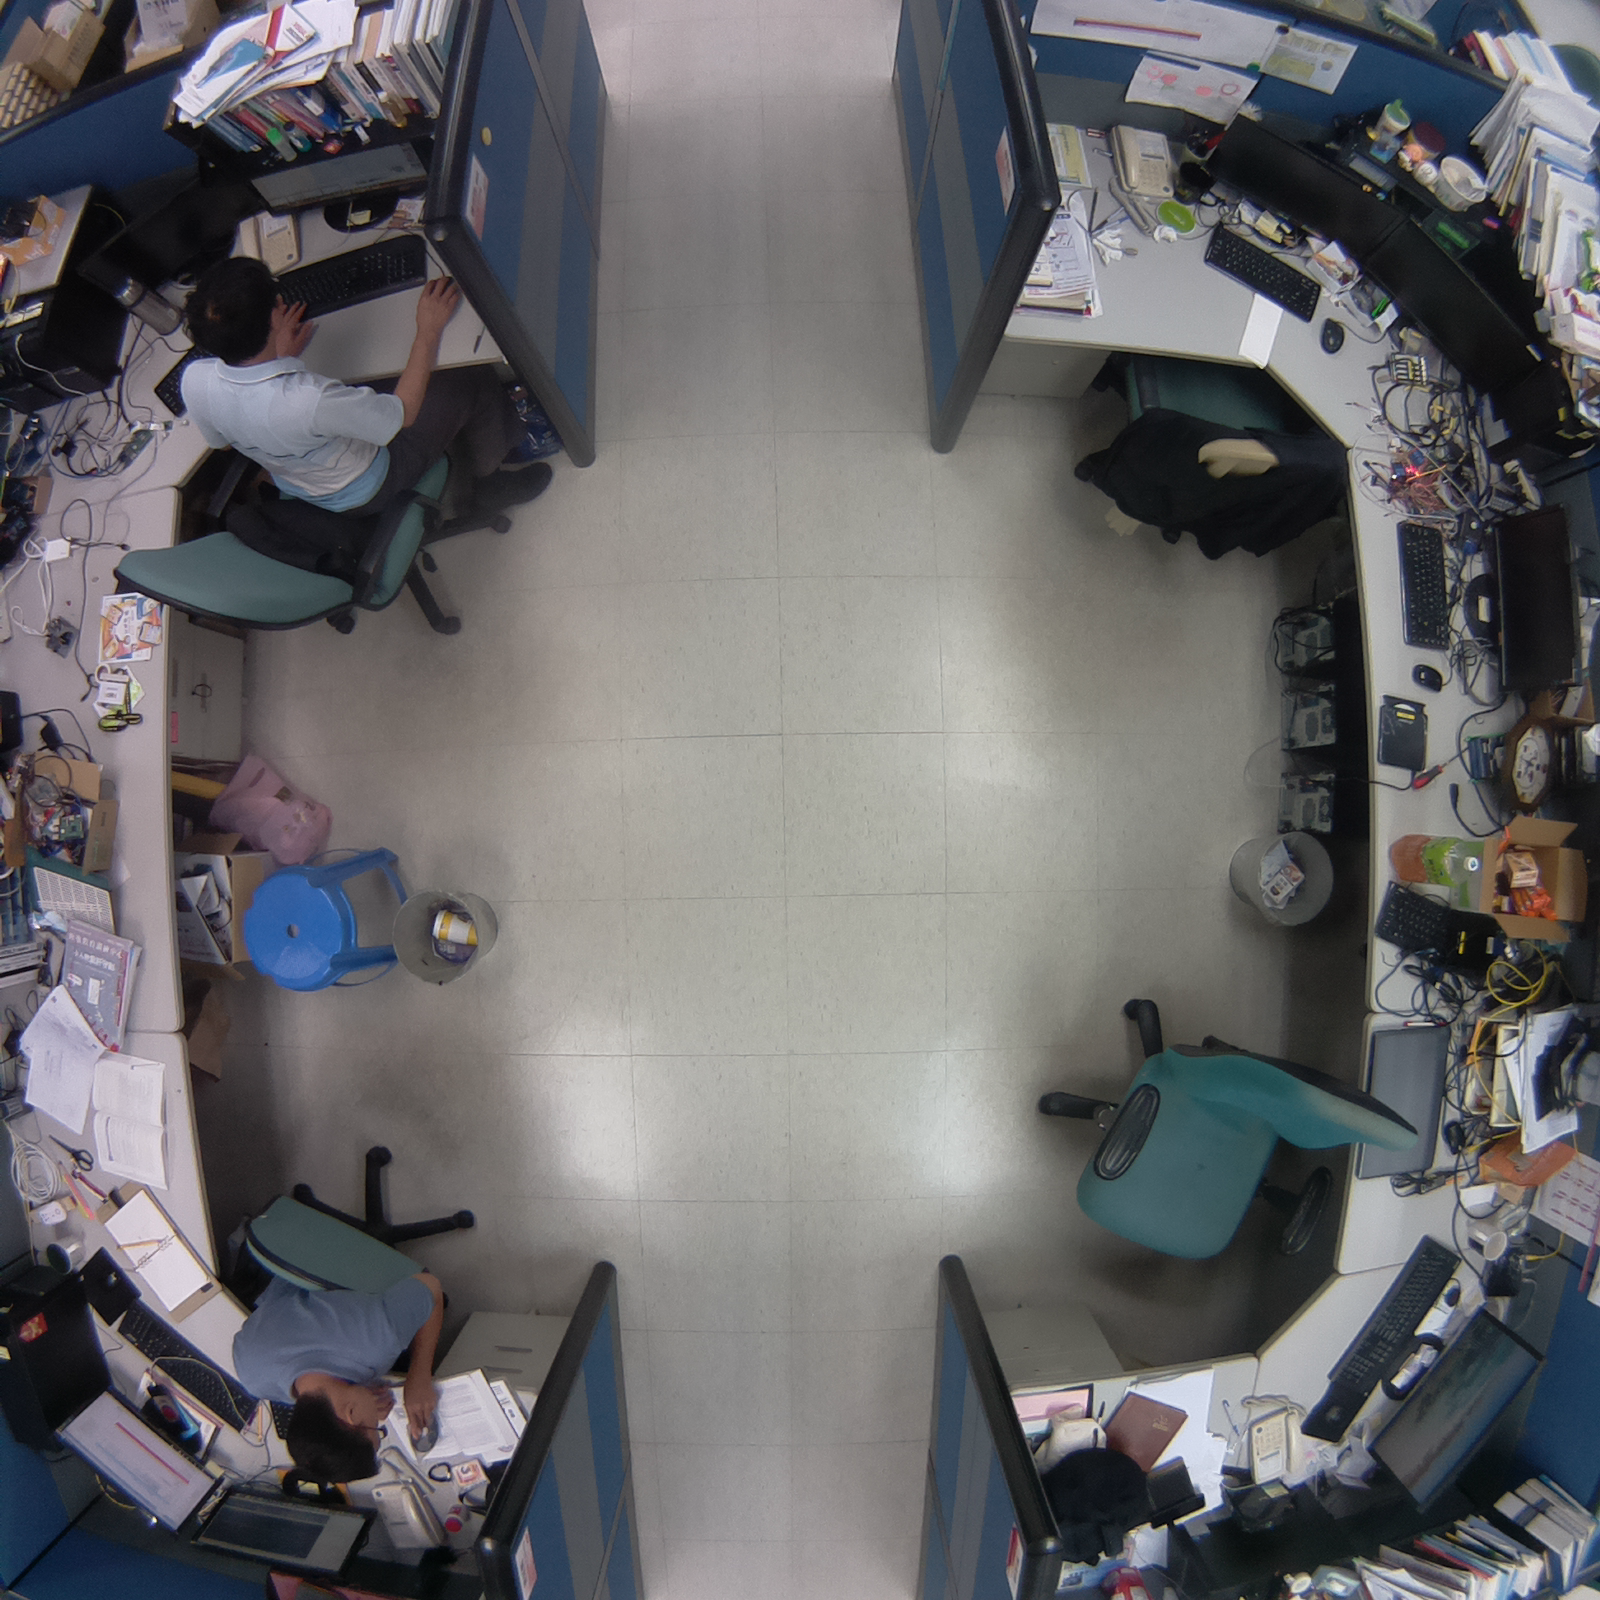chair: (1009, 975, 1427, 1283), (1065, 329, 1353, 578)
head: (179, 243, 297, 367), (277, 1376, 392, 1491)
sitting: (91, 240, 568, 670), (212, 1132, 488, 1488)
